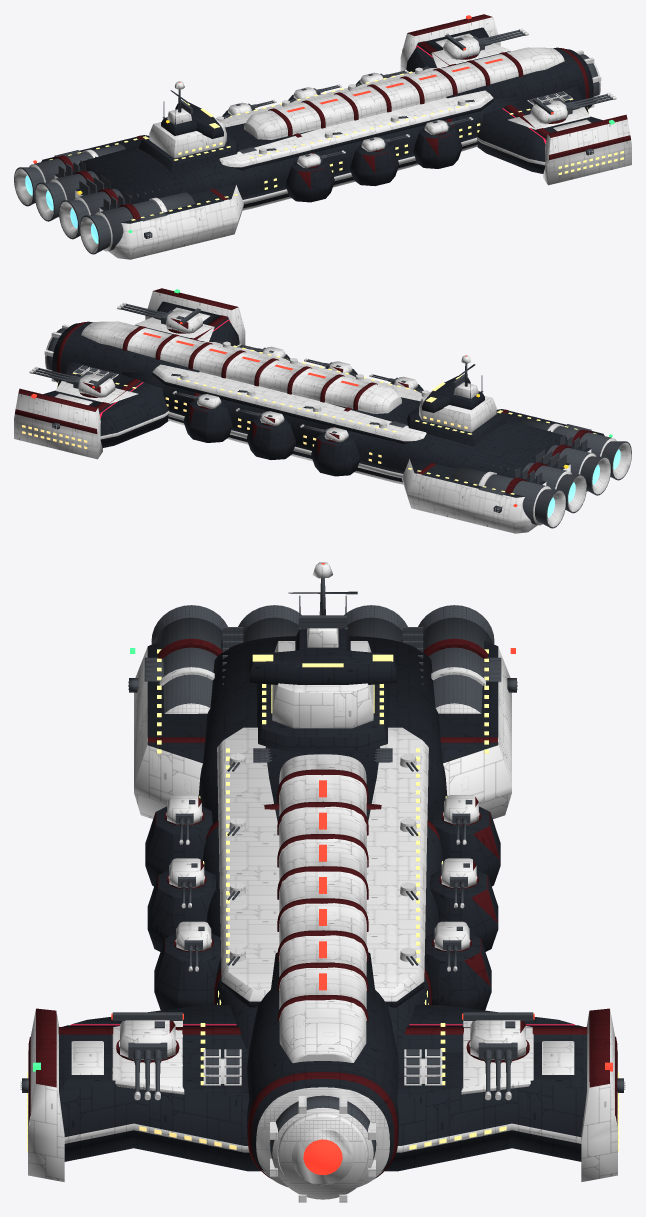
The model's file is colossus_production_v1_lod1.glb.
3 renders of one model, top to bottom at view 1: azimuth 30°, elevation 25°; view 2: azimuth 150°, elevation 25°; view 3: azimuth 270°, elevation 25°, orthographic. The views are drawn at different scales.
Parts seen in each view (by area): view 1: LOD0_MOTION_HULL_CORE_Armor, LOD0_MOTION_HULL_CORE_Hull, LOD0_MOTION_HULL_CORE_Mechanical, LOD0_MOTION_HULL_CORE_Livery, LOD0_MOTION_HULL_CORE_MechanicalDark, LOD0_MOTION_HULL_CORE_Lights_Warm, LOD0_MOTION_HULL_CORE_HOOK_ARMOR_PORT_Armor, LOD0_MOTION_HULL_CORE_HOOK_DRIVE_CORE, LOD0_MOTION_HULL_CORE_HOOK_NAV_PORT; view 2: LOD0_MOTION_HULL_CORE_Armor, LOD0_MOTION_HULL_CORE_Hull, LOD0_MOTION_HULL_CORE_Mechanical, LOD0_MOTION_HULL_CORE_Livery, LOD0_MOTION_HULL_CORE_MechanicalDark, LOD0_MOTION_HULL_CORE_Lights_Warm, LOD0_MOTION_HULL_CORE_HOOK_ARMOR_PORT_Armor, LOD0_MOTION_HULL_CORE_HOOK_DRIVE_CORE, LOD0_MOTION_HULL_CORE_HOOK_NAV_PORT; view 3: LOD0_MOTION_HULL_CORE_Hull, LOD0_MOTION_HULL_CORE_Armor, LOD0_MOTION_HULL_CORE_Mechanical, LOD0_MOTION_HULL_CORE_Livery, LOD0_MOTION_HULL_CORE_MechanicalDark, LOD0_MOTION_HULL_CORE_Lights_Warm, LOD0_MOTION_HULL_CORE_HOOK_ARMOR_PORT_Armor, LOD0_MOTION_HULL_CORE_HOOK_NAV_PORT, LOD0_MOTION_HULL_CORE_HOOK_SENSOR_MAST_Mechanical.
Part boxes in pixels (x1=…): LOD0_MOTION_HULL_CORE_Armor: x1=54, y1=17, x2=631, y2=259; LOD0_MOTION_HULL_CORE_Hull: x1=41, y1=27, x2=602, y2=223; LOD0_MOTION_HULL_CORE_Mechanical: x1=14, y1=30, x2=612, y2=254; LOD0_MOTION_HULL_CORE_Livery: x1=53, y1=14, x2=630, y2=219; LOD0_MOTION_HULL_CORE_MechanicalDark: x1=14, y1=28, x2=616, y2=253; LOD0_MOTION_HULL_CORE_Lights_Warm: x1=49, y1=71, x2=623, y2=220; LOD0_MOTION_HULL_CORE_HOOK_ARMOR_PORT_Armor: x1=431, y1=43, x2=511, y2=67; LOD0_MOTION_HULL_CORE_HOOK_DRIVE_CORE: x1=25, y1=175, x2=98, y2=243; LOD0_MOTION_HULL_CORE_HOOK_NAV_PORT: x1=33, y1=15, x2=553, y2=163; LOD0_MOTION_HULL_CORE_Armor: x1=14, y1=291, x2=591, y2=533; LOD0_MOTION_HULL_CORE_Hull: x1=43, y1=301, x2=604, y2=497; LOD0_MOTION_HULL_CORE_Mechanical: x1=33, y1=304, x2=631, y2=528; LOD0_MOTION_HULL_CORE_Livery: x1=15, y1=288, x2=592, y2=493; LOD0_MOTION_HULL_CORE_MechanicalDark: x1=29, y1=302, x2=631, y2=527; LOD0_MOTION_HULL_CORE_Lights_Warm: x1=22, y1=345, x2=596, y2=494; LOD0_MOTION_HULL_CORE_HOOK_ARMOR_PORT_Armor: x1=56, y1=381, x2=137, y2=403; LOD0_MOTION_HULL_CORE_HOOK_DRIVE_CORE: x1=547, y1=449, x2=620, y2=517; LOD0_MOTION_HULL_CORE_HOOK_NAV_PORT: x1=31, y1=322, x2=517, y2=506; LOD0_MOTION_HULL_CORE_Hull: x1=59, y1=629, x2=586, y2=1171; LOD0_MOTION_HULL_CORE_Armor: x1=28, y1=628, x2=617, y2=1202; LOD0_MOTION_HULL_CORE_Mechanical: x1=22, y1=595, x2=623, y2=1163; LOD0_MOTION_HULL_CORE_Livery: x1=28, y1=638, x2=617, y2=1178; LOD0_MOTION_HULL_CORE_MechanicalDark: x1=20, y1=681, x2=625, y2=1199; LOD0_MOTION_HULL_CORE_Lights_Warm: x1=27, y1=649, x2=618, y2=1151; LOD0_MOTION_HULL_CORE_HOOK_ARMOR_PORT_Armor: x1=461, y1=1020, x2=533, y2=1094; LOD0_MOTION_HULL_CORE_HOOK_NAV_PORT: x1=111, y1=648, x2=612, y2=1174; LOD0_MOTION_HULL_CORE_HOOK_SENSOR_MAST_Mechanical: x1=288, y1=578, x2=357, y2=628.
Size of what is drawn, in the model's own units: 53.5 by 12.03 by 26.22.
11 materials, 5 textured.
